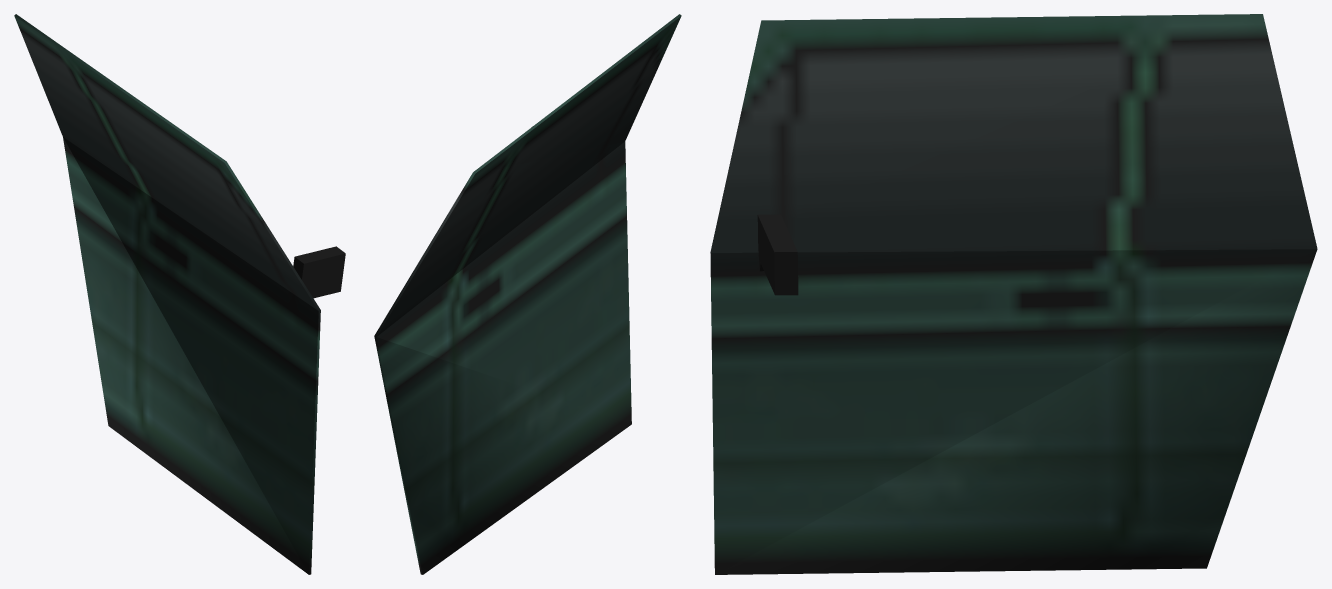
File: car_cricket_door_FL.obj
The picture shows the model from 3 angles, left to right: view 1: azimuth 30°, elevation 25°; view 2: azimuth 150°, elevation 25°; view 3: azimuth 270°, elevation 25°; orthographic projection. The views are drawn at different scales.
Parts seen in each view (by area): view 1: Car3.002; view 2: Car3.002; view 3: Car3.002.
Part boxes in pixels (left/top/right/bottom): Car3.002: left=14, top=14, right=345, bottom=574; Car3.002: left=374, top=14, right=681, bottom=574; Car3.002: left=710, top=14, right=1317, bottom=574.
Bounding box in the file's own units: 0.6 × 1.78 × 1.89.
